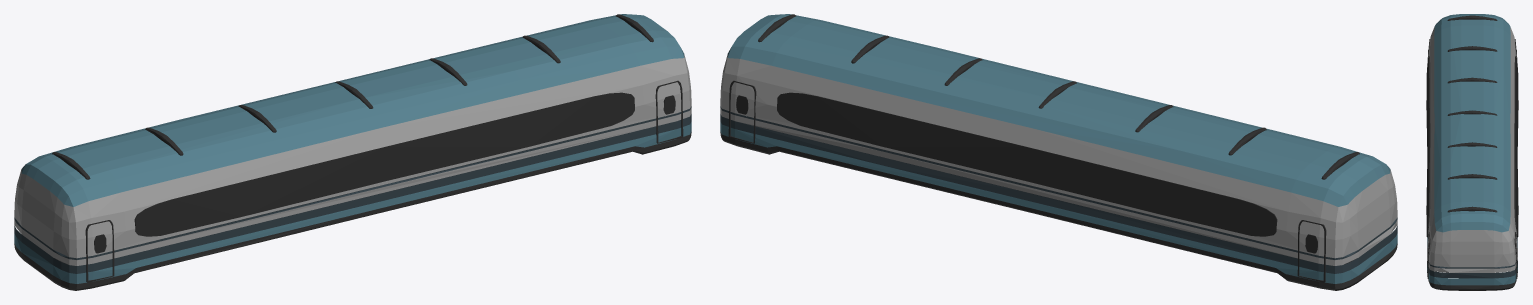
File: hs_wagon.glb
3 views of the same model, side by side, from view 1: azimuth 30°, elevation 25°; view 2: azimuth 150°, elevation 25°; view 3: azimuth 270°, elevation 25° (orthographic). The views are drawn at different scales.
Visible parts, largest first — view 1: HighspeedTrain_Wagon; view 2: HighspeedTrain_Wagon; view 3: HighspeedTrain_Wagon.
Part boxes in pixels (x1,y1,x2,y2): HighspeedTrain_Wagon: [14, 14, 691, 290]; HighspeedTrain_Wagon: [720, 14, 1397, 290]; HighspeedTrain_Wagon: [1426, 14, 1518, 290].
Bounding box in the file's own units: 11.16 × 1.9 × 2.03.
